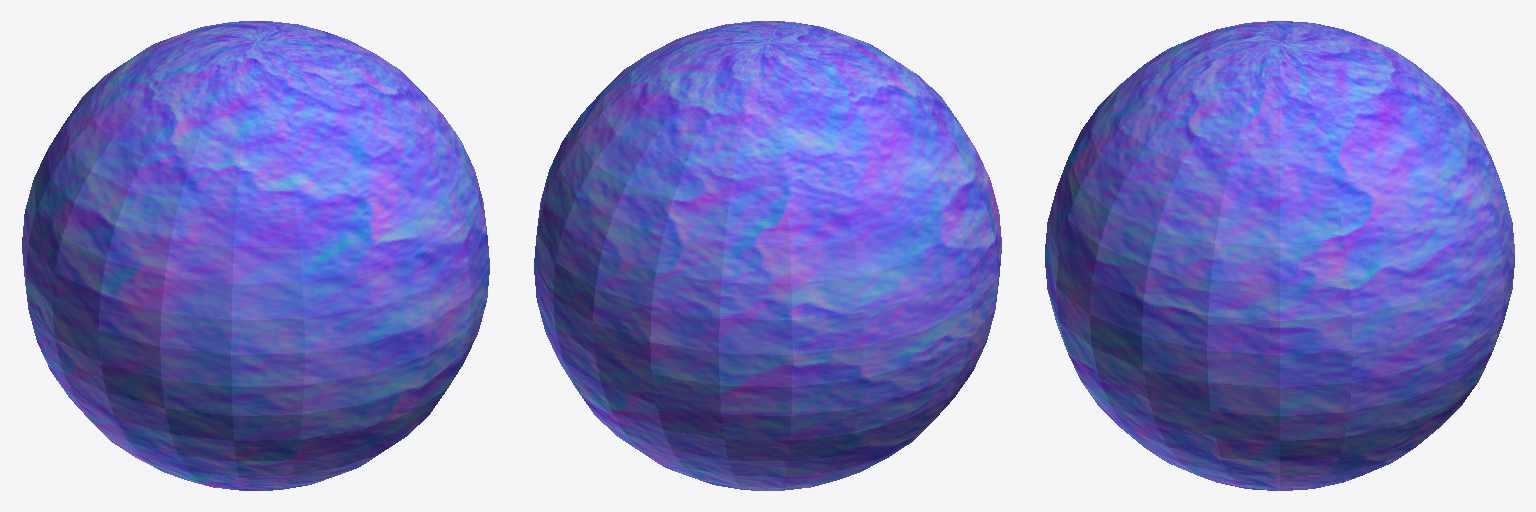
3 renders of one model, left to right at view 1: azimuth 30°, elevation 25°; view 2: azimuth 150°, elevation 25°; view 3: azimuth 270°, elevation 25°, orthographic.
Visible parts, largest first — view 1: pSphere1; view 2: pSphere1; view 3: pSphere1.
Part boxes in pixels (left/top/right/bottom): pSphere1: left=22, top=21, right=489, bottom=490; pSphere1: left=534, top=21, right=1001, bottom=490; pSphere1: left=1045, top=21, right=1514, bottom=490.
Bounding box in the file's own units: 20 × 20 × 20.
1 materials, 1 textured.